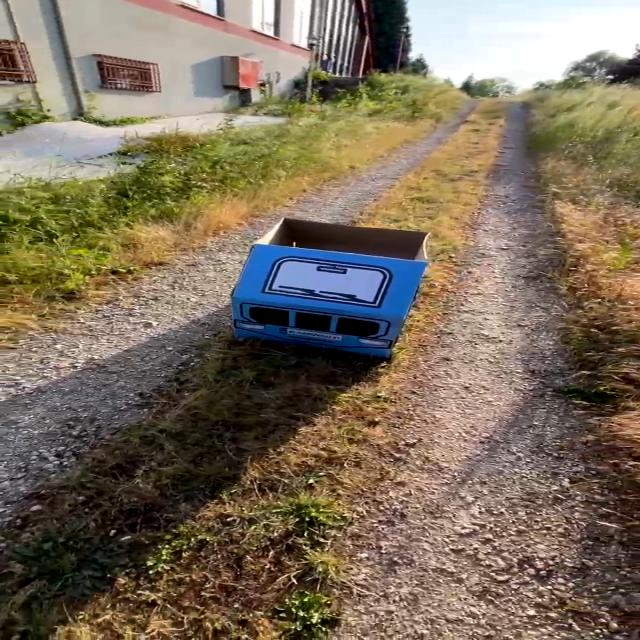blue_car: (199, 198, 458, 394)
